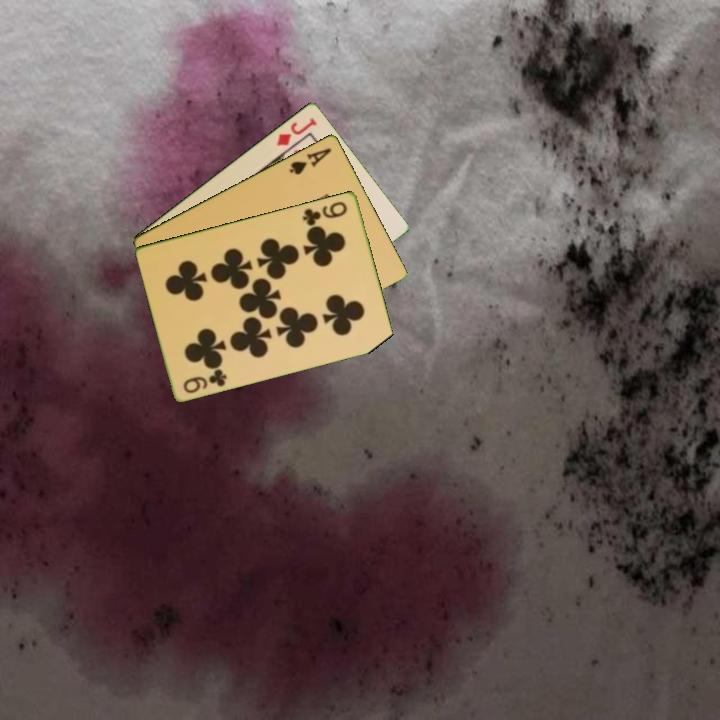9c: (299, 197, 350, 228), (180, 365, 230, 396)
As: (286, 144, 334, 177)
Jd: (273, 114, 320, 148)
